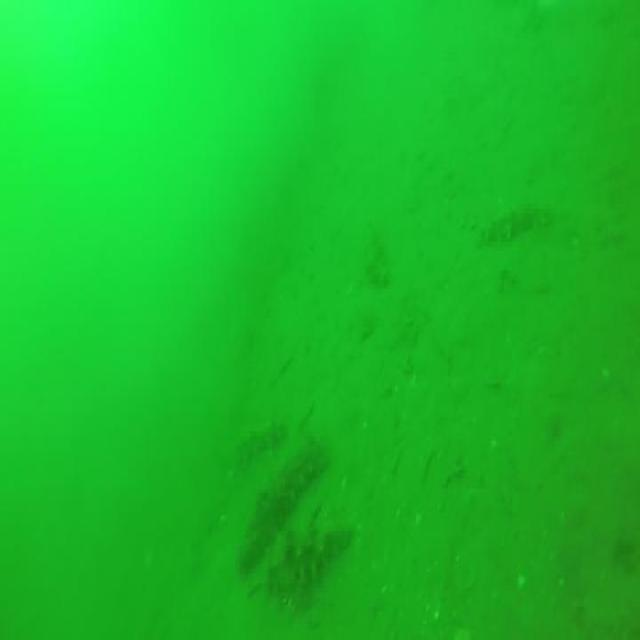holothurian: (218, 441, 324, 564), (268, 523, 353, 574), (477, 202, 552, 242), (222, 409, 284, 454), (364, 234, 390, 284)
